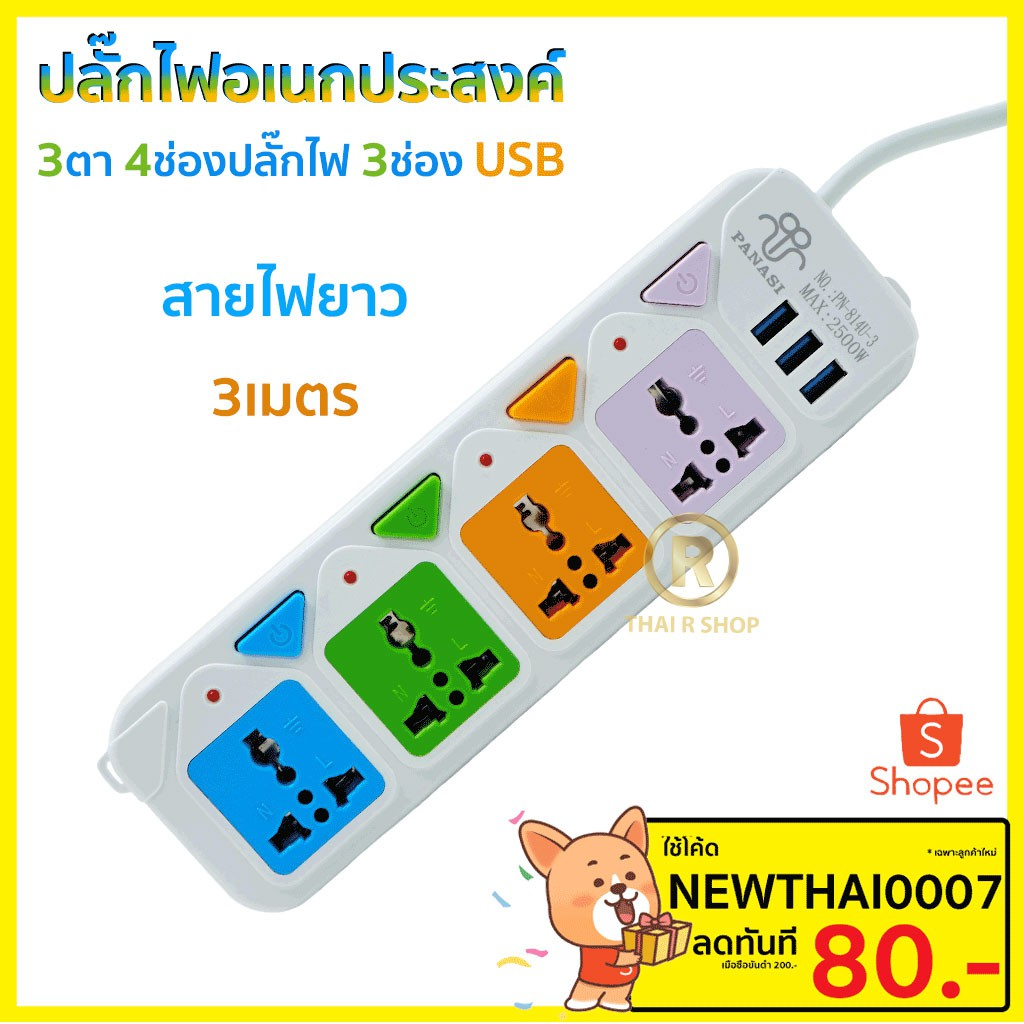Three_eye_plug: (92, 155, 927, 922)
